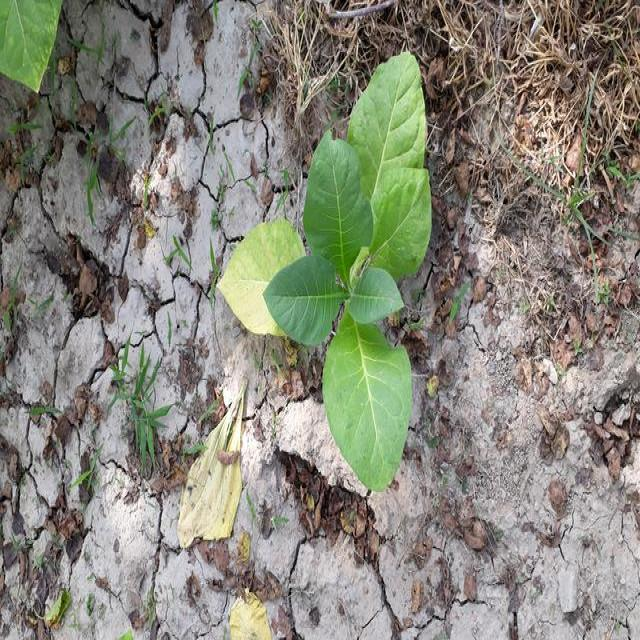crop: (211, 50, 428, 477), (0, 0, 62, 104)
